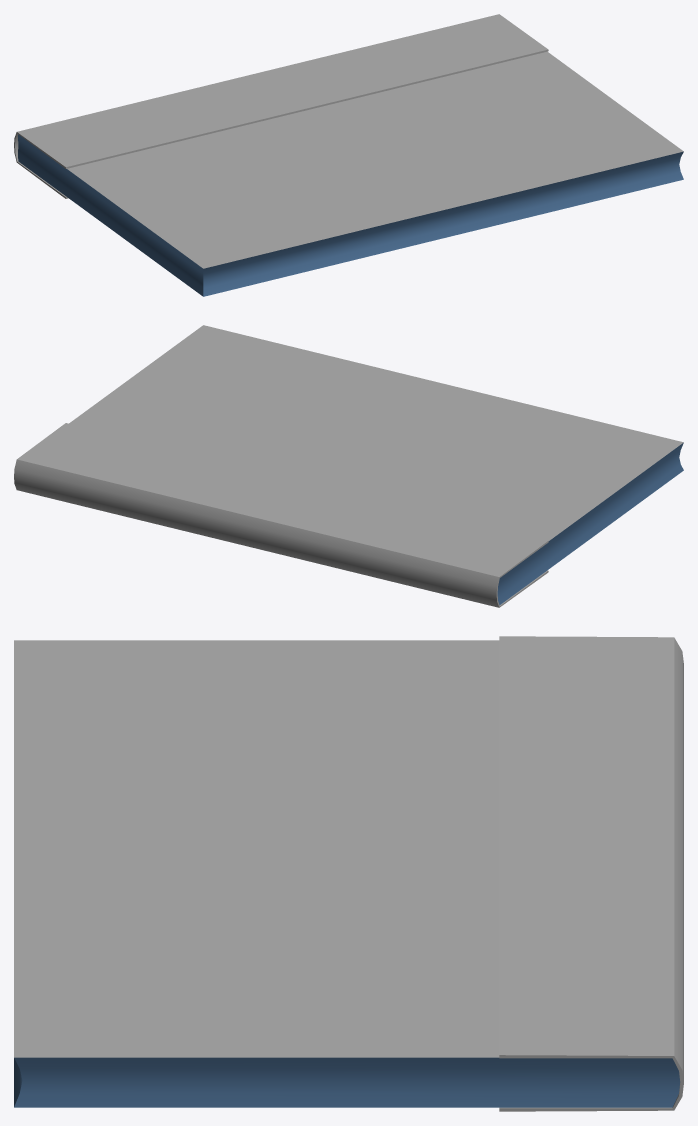
The model's file is llibre1.fbx.
The picture shows the model from 3 angles, top to bottom: view 1: azimuth 30°, elevation 25°; view 2: azimuth 150°, elevation 25°; view 3: azimuth 270°, elevation 25°; orthographic projection. The views are drawn at different scales.
Parts seen in each view (by area): view 1: llibre1; view 2: llibre1; view 3: llibre1.
Part boxes in pixels (left/top/right/bottom): llibre1: left=14, top=14, right=683, bottom=296; llibre1: left=14, top=325, right=683, bottom=607; llibre1: left=14, top=636, right=683, bottom=1111.
Size of the model in its own units: 56.37 by 3.55 by 38.11.
